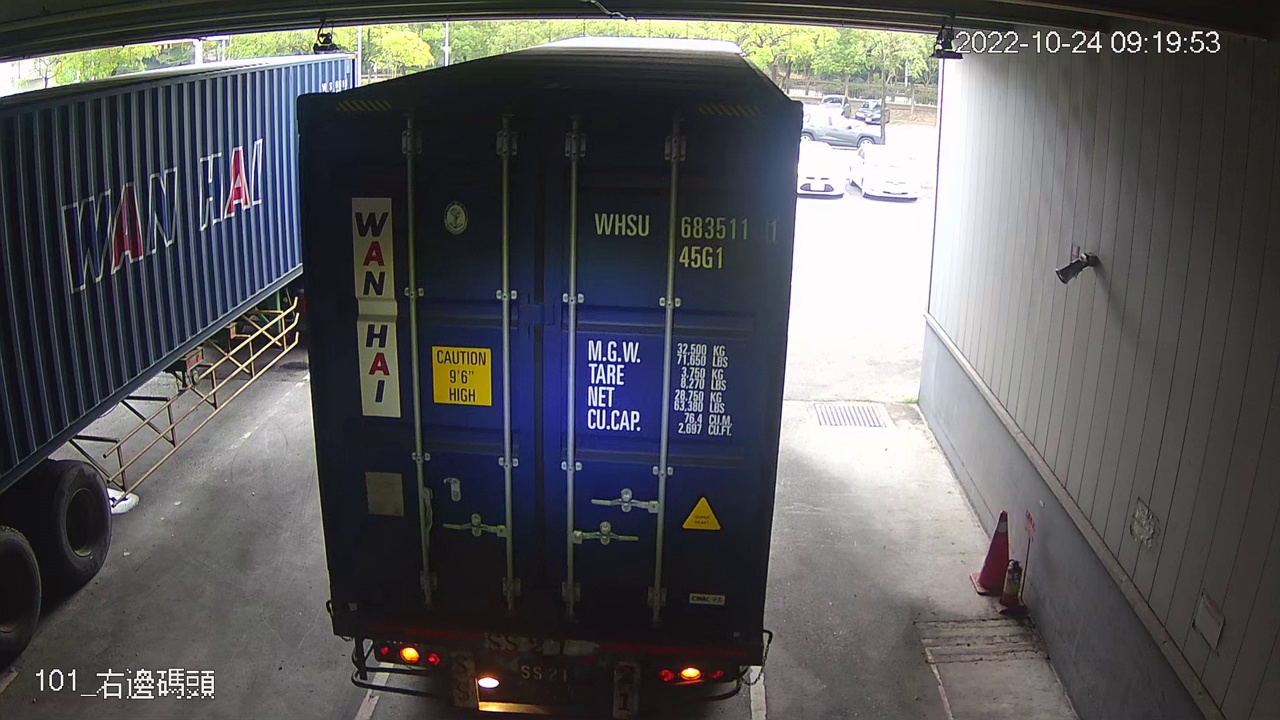container: (588, 204, 784, 277)
